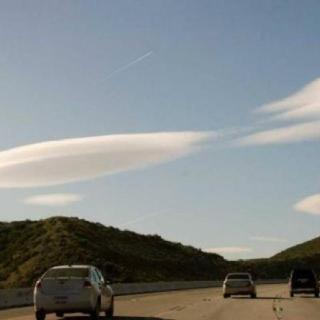Altocumulus: (0, 0, 320, 256)
